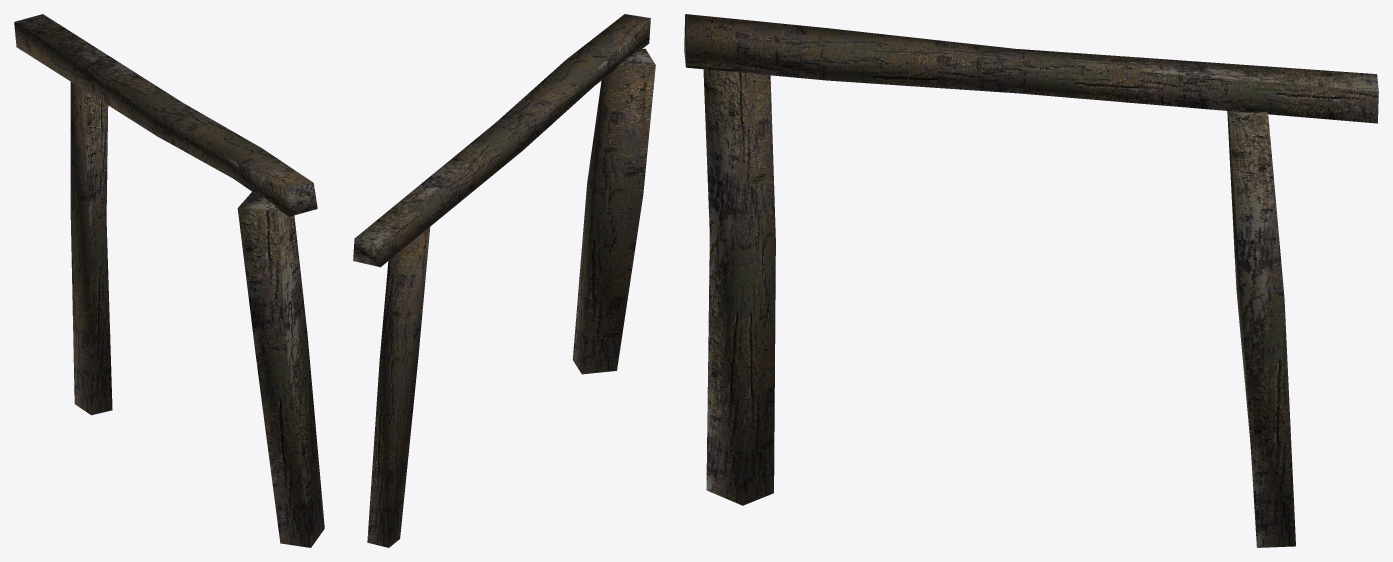
Rendered from ADDON_MISC_HOLZSTUETZEN_01.glb.
The picture shows the model from 3 angles, left to right: view 1: azimuth 30°, elevation 25°; view 2: azimuth 150°, elevation 25°; view 3: azimuth 270°, elevation 25°; orthographic projection. The views are drawn at different scales.
Parts seen in each view (by area): view 1: Mesh; view 2: Mesh; view 3: Mesh.
Boxes of the visible parts, bbox=[...] form: Mesh: bbox=[14, 14, 324, 547]; Mesh: bbox=[353, 14, 655, 547]; Mesh: bbox=[684, 14, 1378, 547].
Size of the model in its own units: 0.8644 by 3.79 by 4.78.
2 materials, 2 textured.
